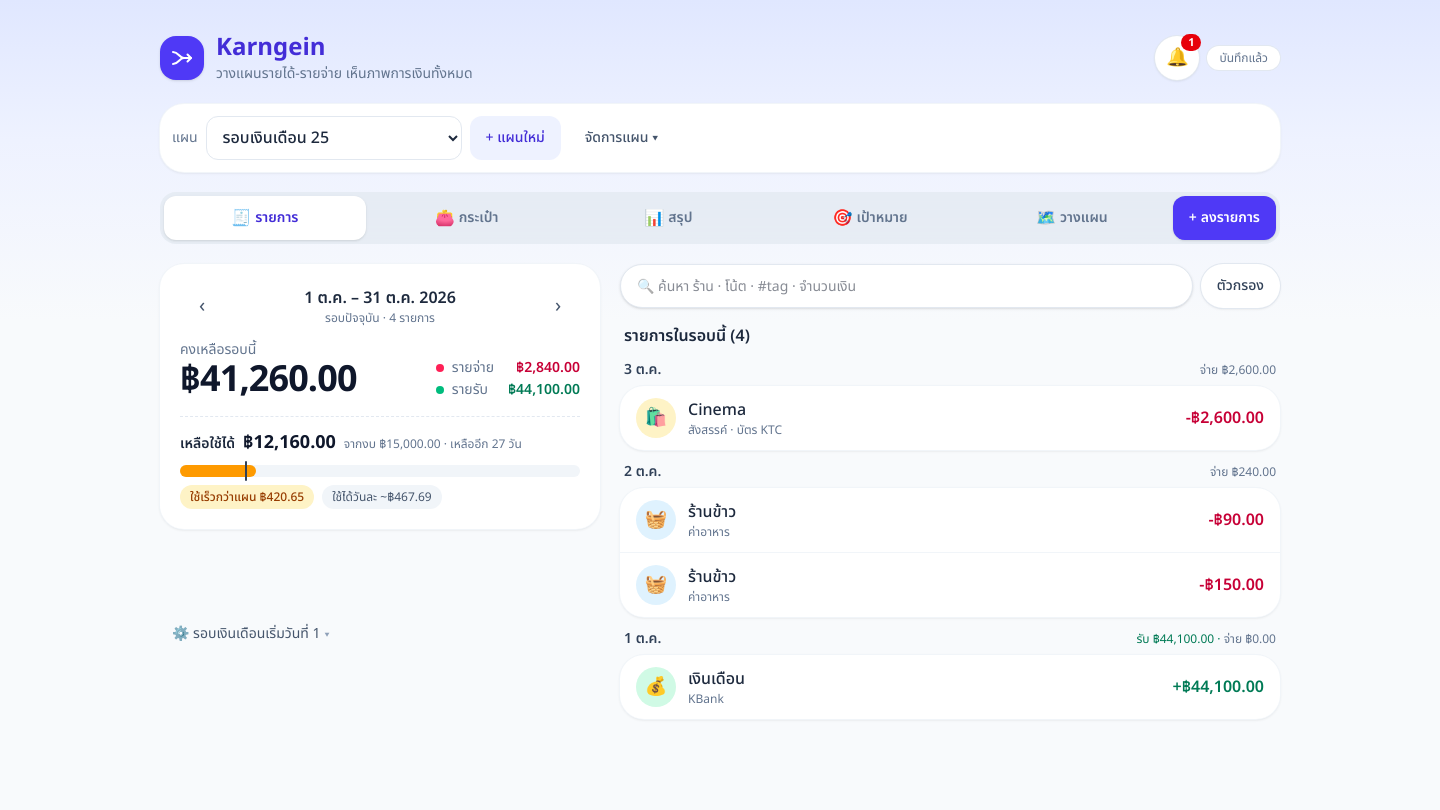
Test: CP-12.3: กระดิ่งแจ้งเตือน › รวมเรื่องที่ต้องดู: กลุ่มเกินงบ (+ เรียงตามความสำคัญ) / เปิด-ปิดด้วย Esc
Expected: the message named "รอบที่แสดง" is shown, 304,286 -> 456,310
Click the button named "การแจ้งเตือน".
click(1177, 58)  # box 1155,36 -> 1199,80
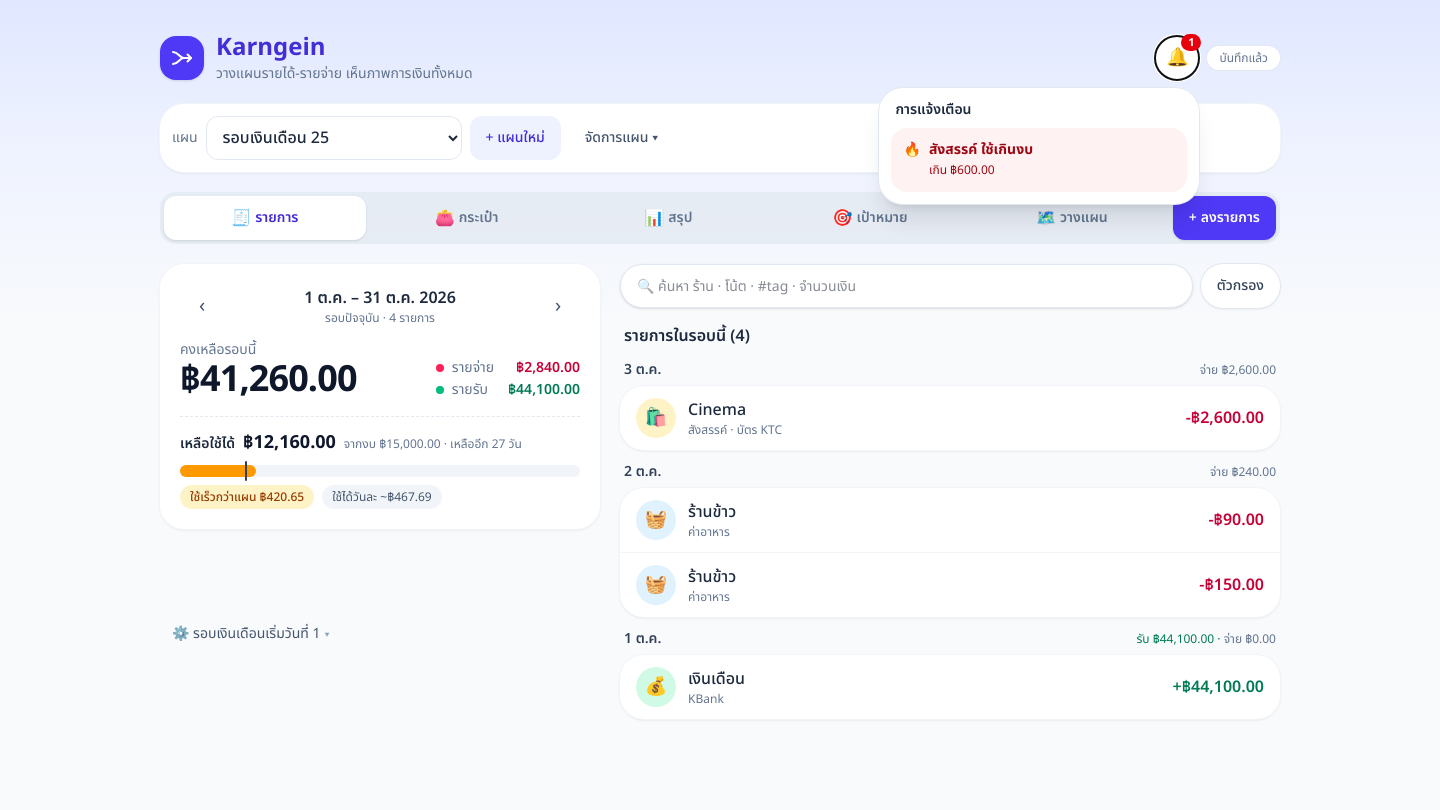
Expected: the element named "รายการแจ้งเตือน" shows "สังสรรค์ ใช้เกินงบ", 929,139 -> 1033,160
Press Escape
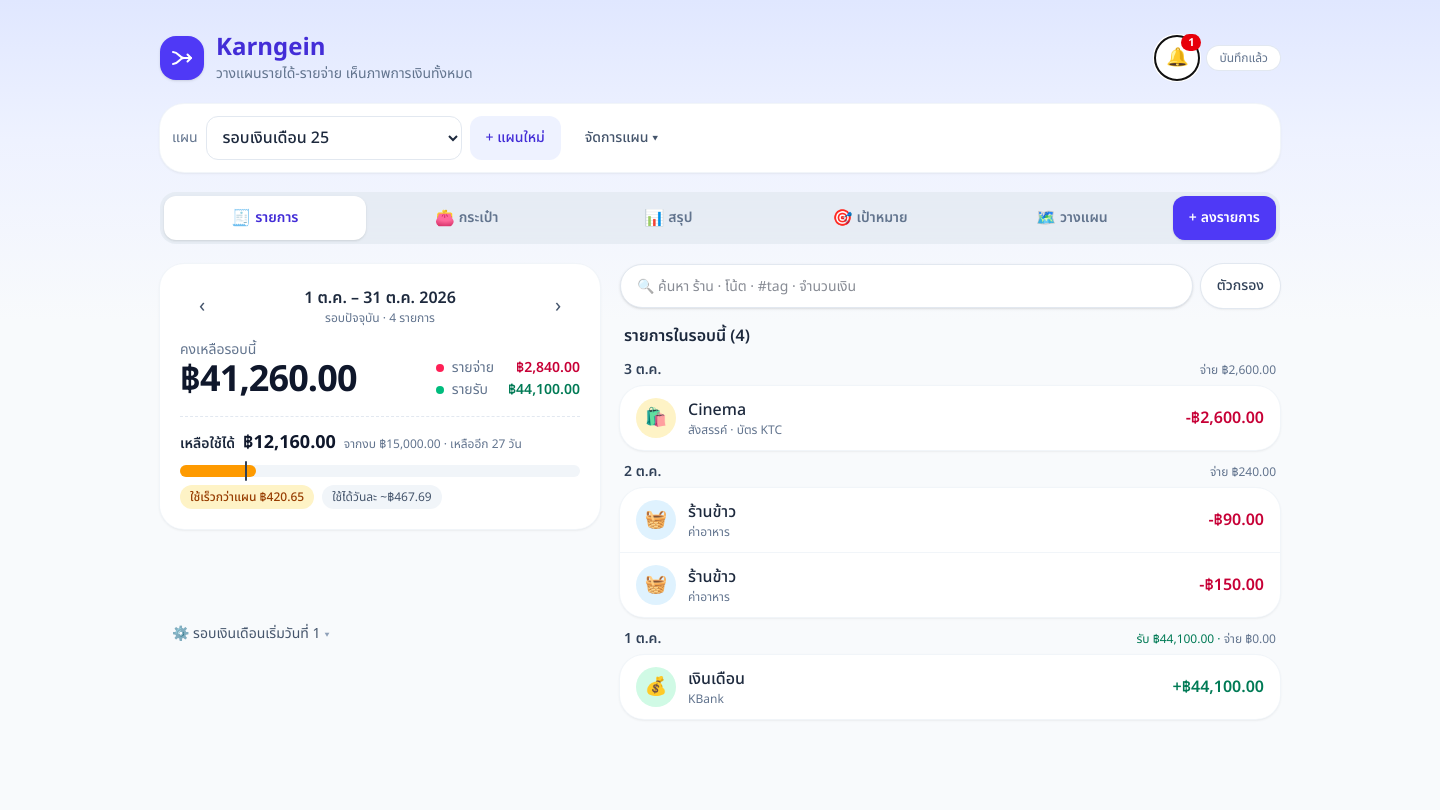
Expected: the element "รายการแจ้งเตือน" is gone
